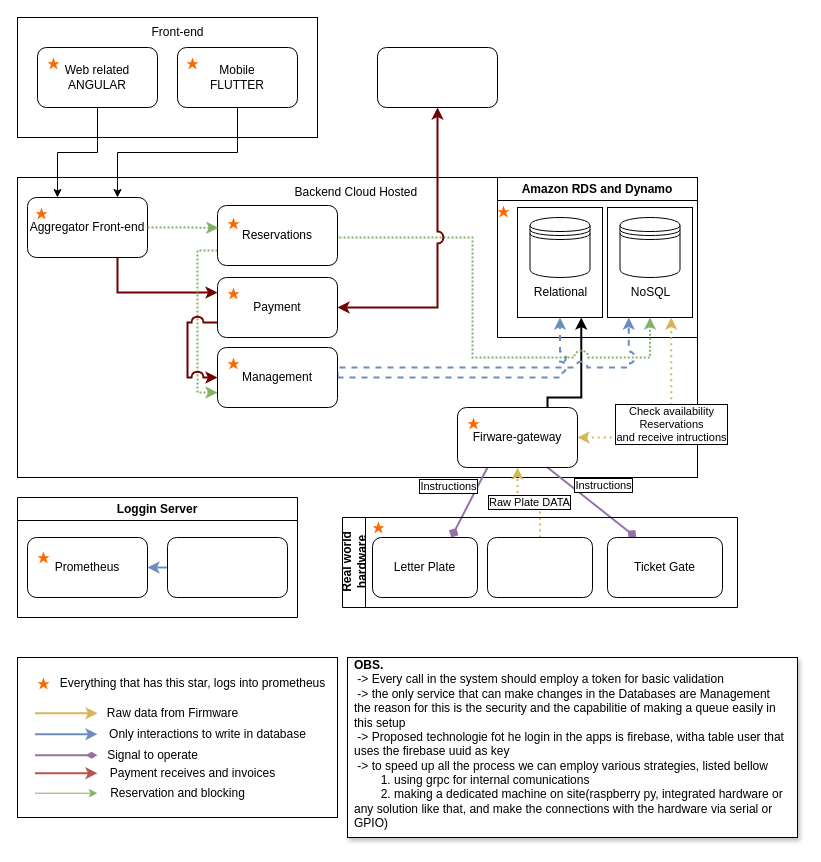
Some shapes in this 821 by 862 pixel diagram are drawn without their labels. Each missing label, with the centre of its shape:
"Loki" belongs at point 227,567.
"LPR System" belongs at point 539,567.
"Payment provider Paypal Mercadopago" belongs at point 437,77.
